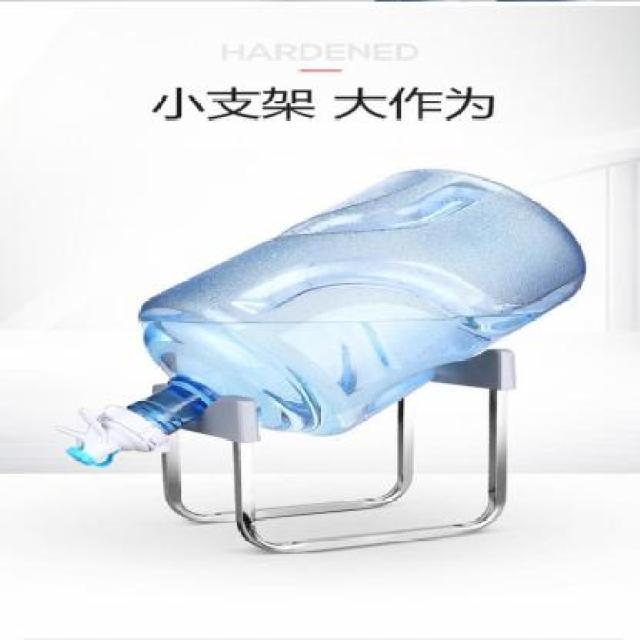coolerbottle: (120, 159, 594, 446)
